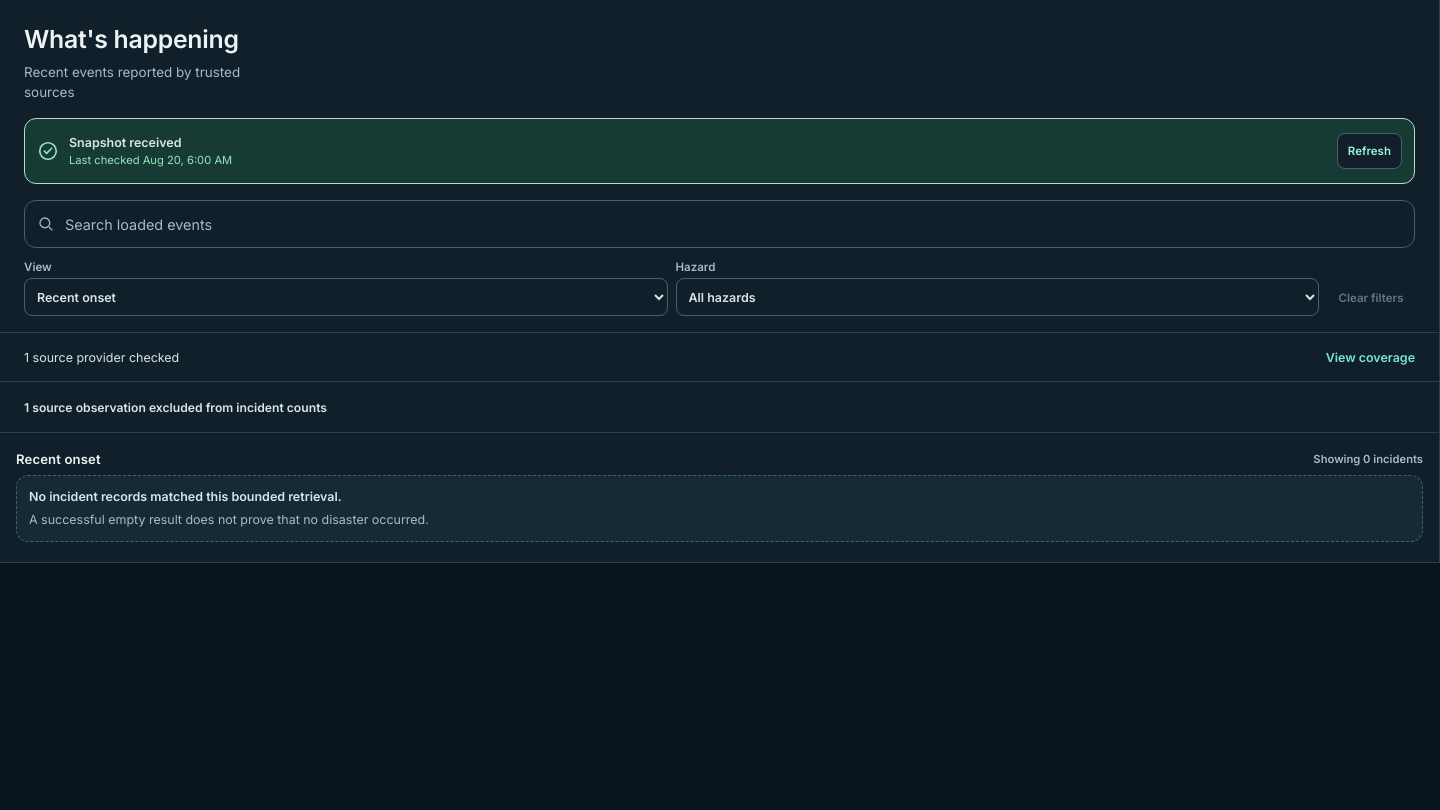
Test: ActiveIncidentsPanel › distinguishes preliminary week reports from acquisition observations
What coordinates should you click on to do the following:
click the heading "1 source observation excluded from incident counts"
I would click on:
 (176, 407)
Its box is [24,400,327,415].
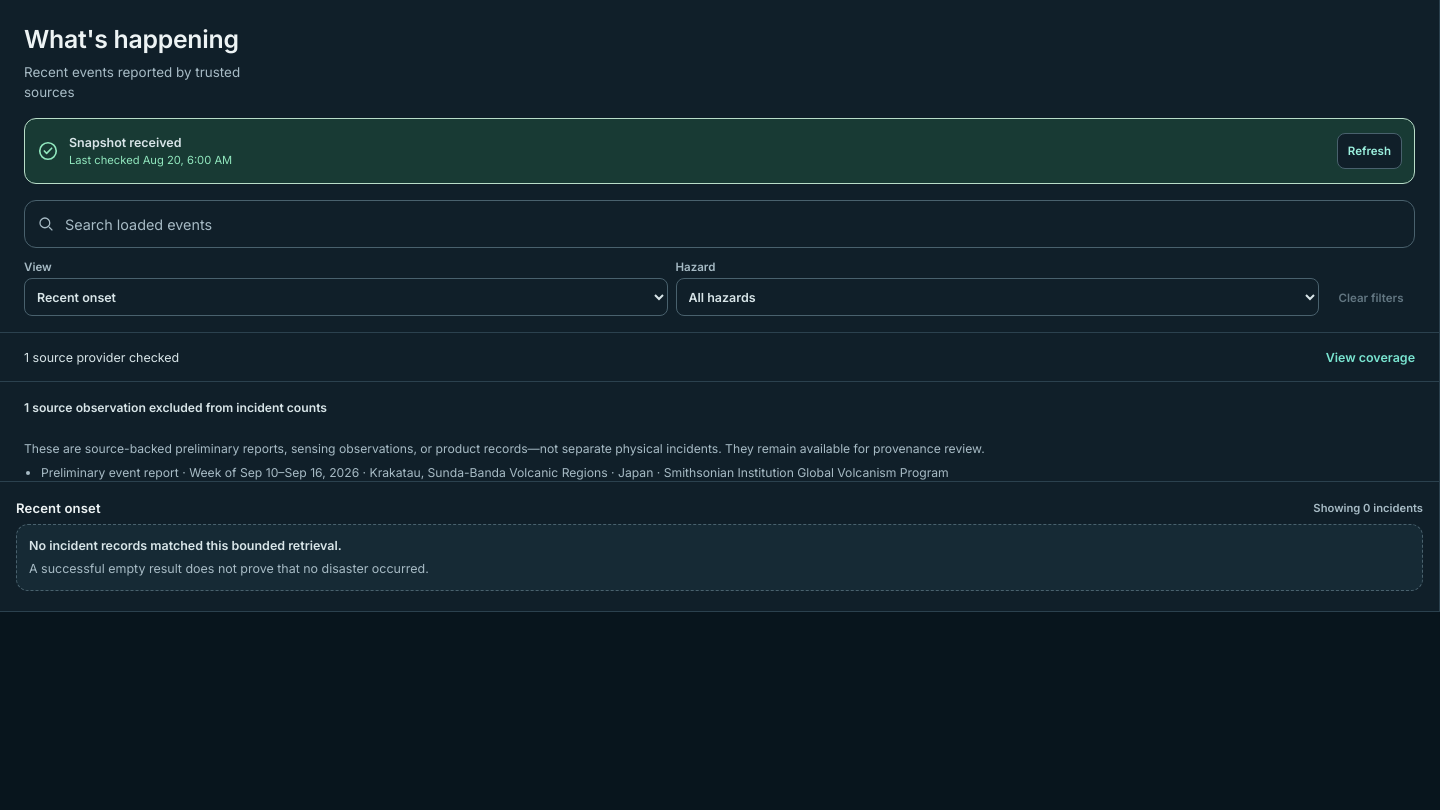
Check: the text "Preliminary event report · Week of Sep 10–Sep 16, 2026" is shown, box [41,465,359,480]
Check: the list item "Krakatau, Sunda-Banda Volcanic Regions" is shown, box [370,465,608,480]
